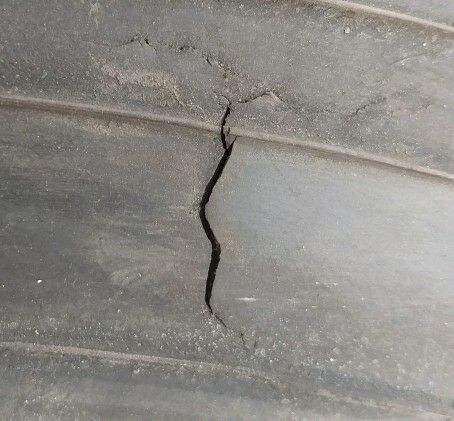cut: (195, 84, 302, 321)
